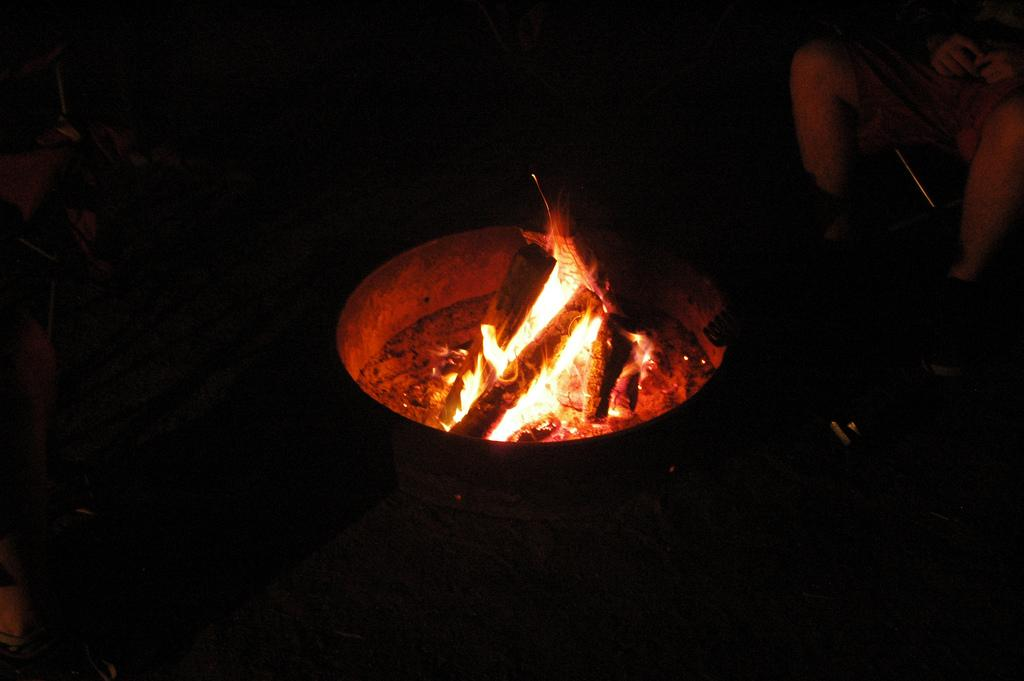fire: (523, 350, 582, 403), (540, 270, 572, 332)
